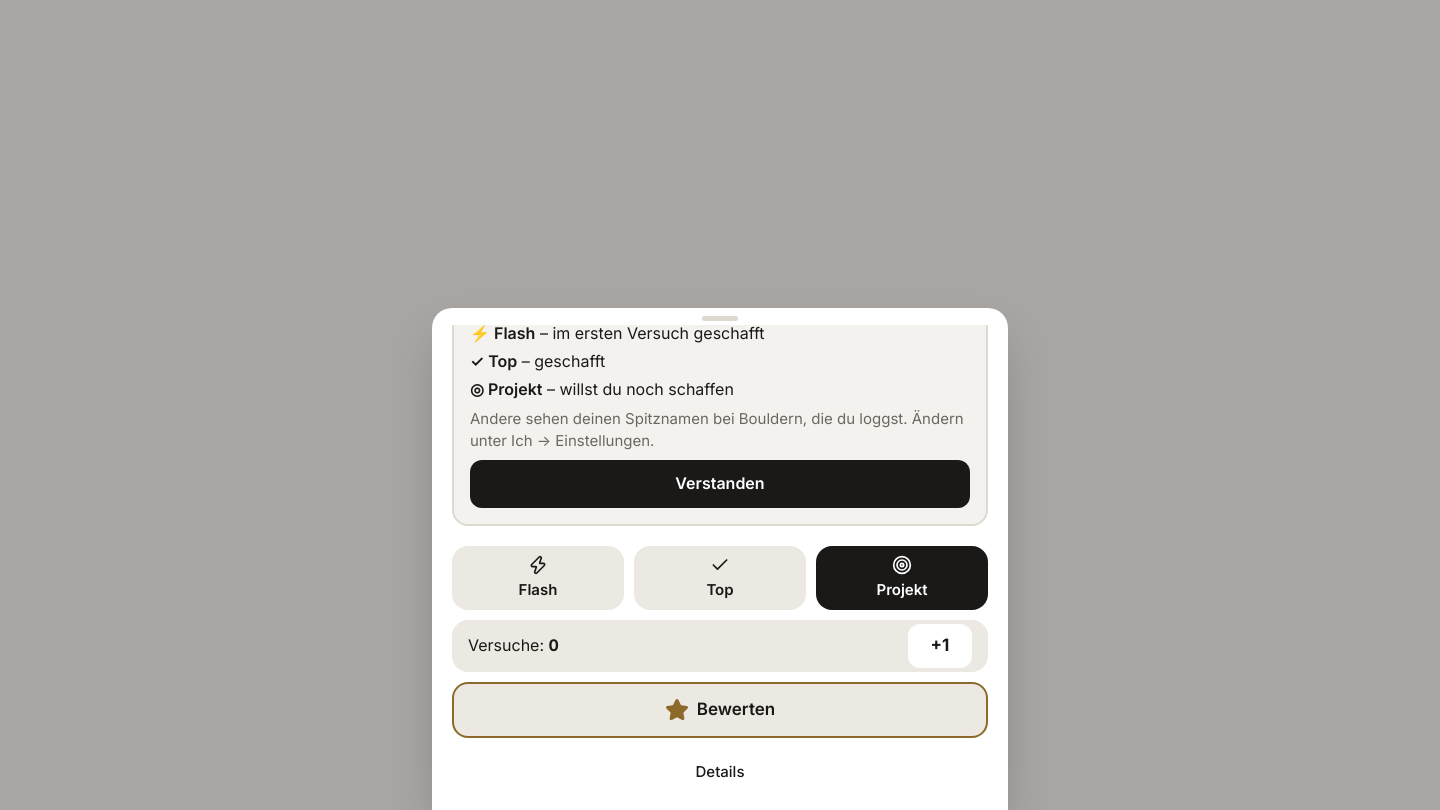
Test case: SPEC-003: UI Components Integration › BoulderSheet (AC-1, AC-3, AC-8, AC-9) › displays boulder details, barometer, logging buttons, and ascent feed
(page scrolled)
Expected: the button with test id "log-flash-btn" reads "Flash", [452, 546, 624, 610]
Expected: the button with test id "log-top-btn" reads "Top", [634, 546, 806, 610]
# Details aufklappen
Click the button with test id "boulder-sheet-more". click: (720, 772)
box: [452, 750, 988, 794]
(page scrolled)
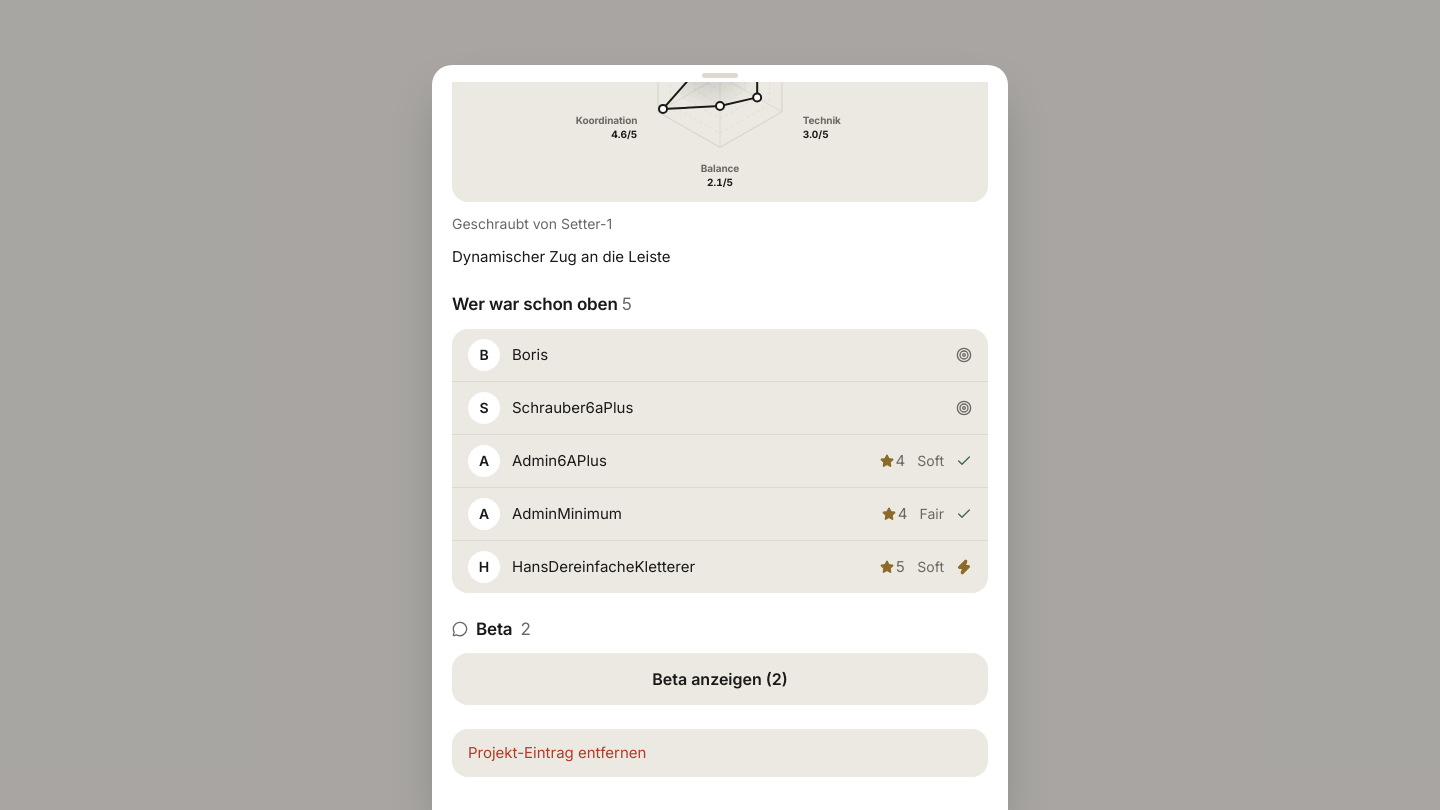
Now the text "HansDereinfacheKletterer" is shown, box [512, 557, 695, 576]
Now the text "AdminMinimum" is shown, box [512, 504, 622, 523]
